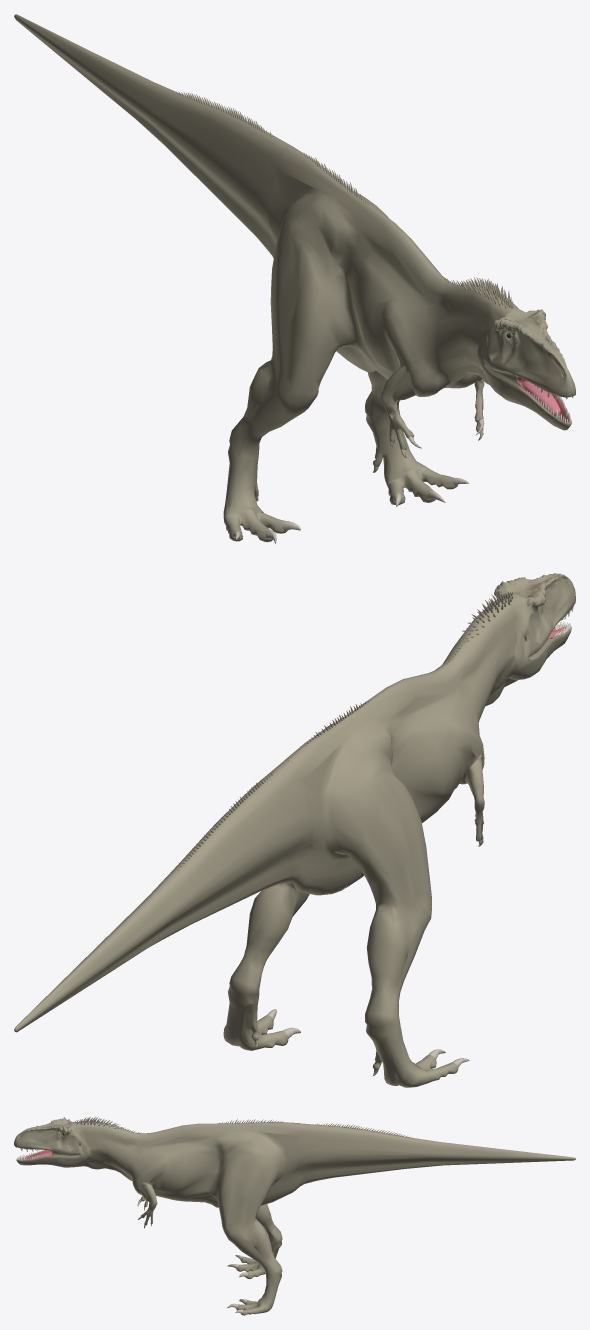
The model's file is tyrannotitan.glb.
3 views of the same model, one above another, from view 1: azimuth 30°, elevation 25°; view 2: azimuth 150°, elevation 25°; view 3: azimuth 270°, elevation 25° (orthographic). The views are drawn at different scales.
Parts seen in each view (by area): view 1: Object_5_DR_Tyrannotitan_56888.Shape_skin_0, Object_13_DR_Tyrannotitan_56888.Shape_spikes_0, Object_11_DR_Tyrannotitan_56888.Shape_claws_0; view 2: Object_5_DR_Tyrannotitan_56888.Shape_skin_0, Object_13_DR_Tyrannotitan_56888.Shape_spikes_0; view 3: Object_5_DR_Tyrannotitan_56888.Shape_skin_0, Object_13_DR_Tyrannotitan_56888.Shape_spikes_0.
Boxes of the visible parts, left/top/right/bottom form: Object_5_DR_Tyrannotitan_56888.Shape_skin_0: left=14, top=14, right=575, bottom=542; Object_13_DR_Tyrannotitan_56888.Shape_spikes_0: left=176, top=92, right=513, bottom=308; Object_11_DR_Tyrannotitan_56888.Shape_claws_0: left=233, top=419, right=484, bottom=543; Object_5_DR_Tyrannotitan_56888.Shape_skin_0: left=14, top=573, right=575, bottom=1087; Object_13_DR_Tyrannotitan_56888.Shape_spikes_0: left=176, top=591, right=513, bottom=870; Object_5_DR_Tyrannotitan_56888.Shape_skin_0: left=14, top=1117, right=575, bottom=1315; Object_13_DR_Tyrannotitan_56888.Shape_spikes_0: left=73, top=1117, right=412, bottom=1138.
Size of the model in its own units: 26.29 by 37.58 by 109.
